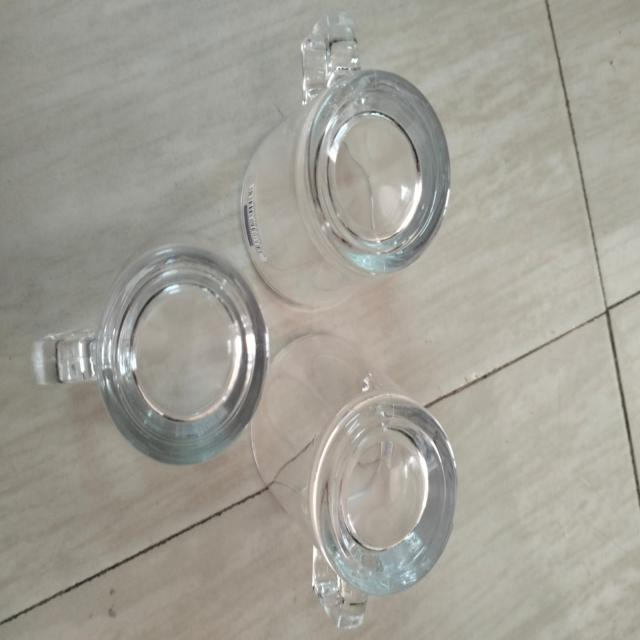glass-VX4N: (239, 12, 455, 311), (264, 327, 458, 630), (36, 239, 277, 465)
